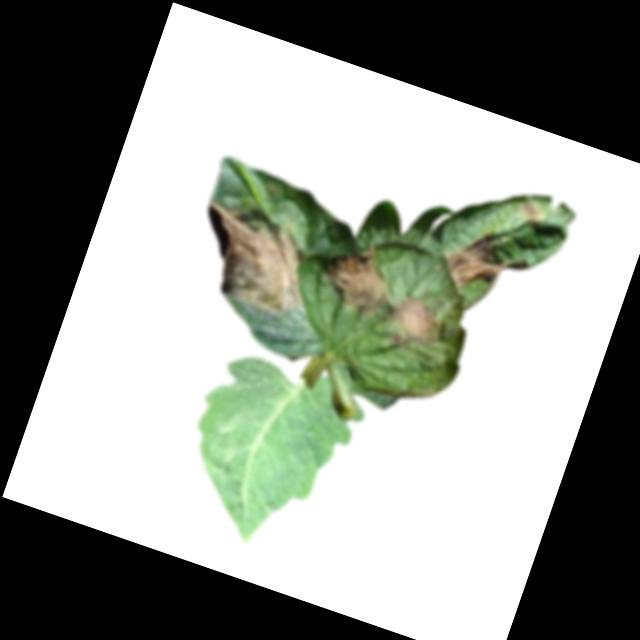Late_blight: (180, 198, 330, 325), (308, 231, 407, 329), (435, 220, 524, 304), (378, 289, 452, 361), (515, 199, 548, 225)
healthy: (162, 342, 372, 568)
